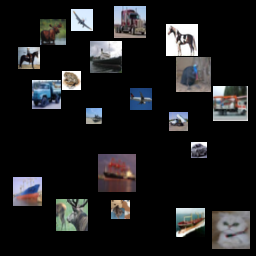airplane: (19, 200, 54, 235), (40, 165, 72, 197), (156, 210, 188, 242), (106, 28, 135, 57), (211, 47, 237, 73)
automobile: (20, 27, 52, 59), (112, 85, 128, 101)
bird: (73, 177, 108, 212), (188, 51, 210, 73)
cat: (186, 100, 221, 135), (131, 119, 157, 145)
deer: (66, 19, 101, 54), (89, 138, 121, 170)
frog: (44, 100, 82, 138), (210, 207, 242, 239), (133, 72, 159, 98), (160, 187, 176, 203)
